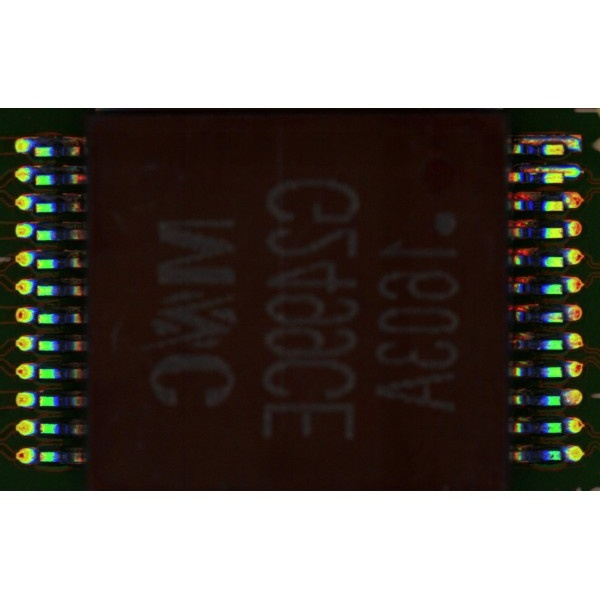Bad_qiaojiao: (520, 137, 564, 144), (527, 167, 564, 173)
